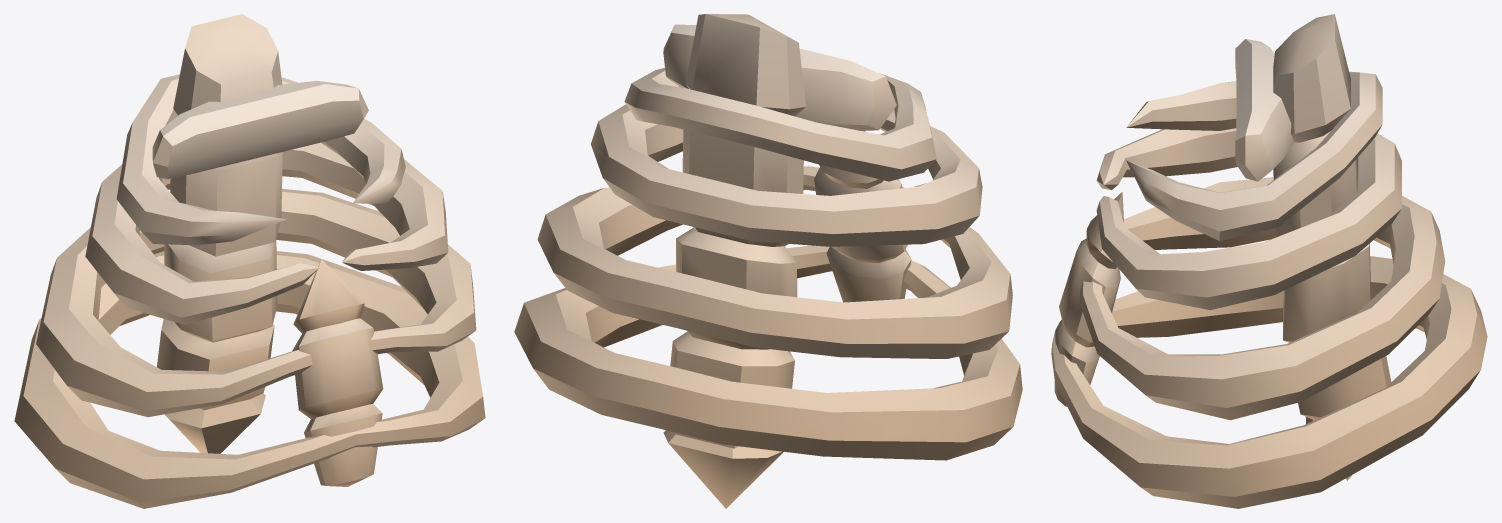
File: ribcage.glb
3 renders of one model, left to right at view 1: azimuth 30°, elevation 25°; view 2: azimuth 150°, elevation 25°; view 3: azimuth 270°, elevation 25°, orthographic. The views are drawn at different scales.
Visible parts, largest first — view 1: ribcage; view 2: ribcage; view 3: ribcage.
Part boxes in pixels (box(x1,y1,x2,y2)): ribcage: box(14, 14, 485, 508); ribcage: box(514, 14, 1022, 508); ribcage: box(1051, 14, 1487, 508).
Bounding box in the file's own units: 0.8456 × 0.8582 × 0.7468.
Materials: 1 (1 with a texture image).
